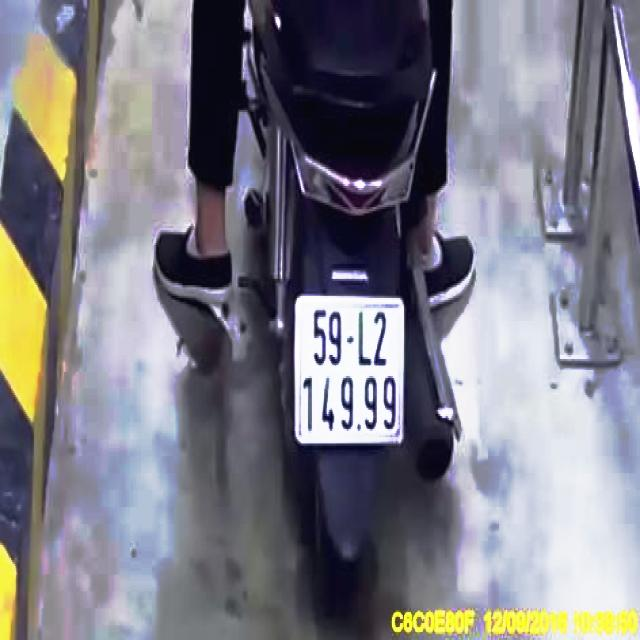license_plate: (298, 299, 408, 445)
